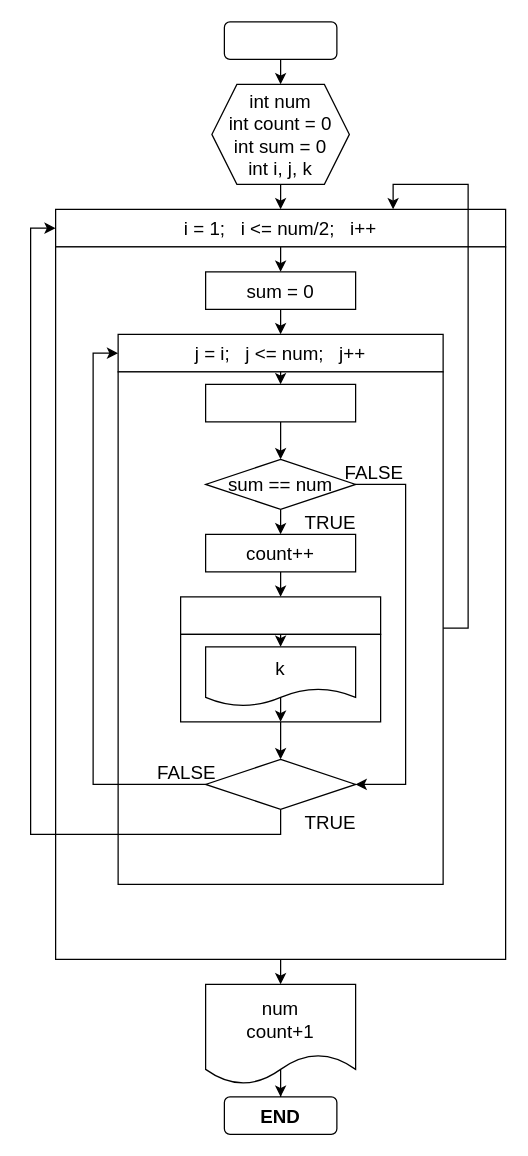
The diagram is 528 pixels wide and 1156 high, and some of its shapes have lost their labels. Each missing label, with the centre of its shape:
k=i; k <= j; k++: point 280,615
START: point 280,40
sum += j: point 280,402
sum > num: point 280,783
